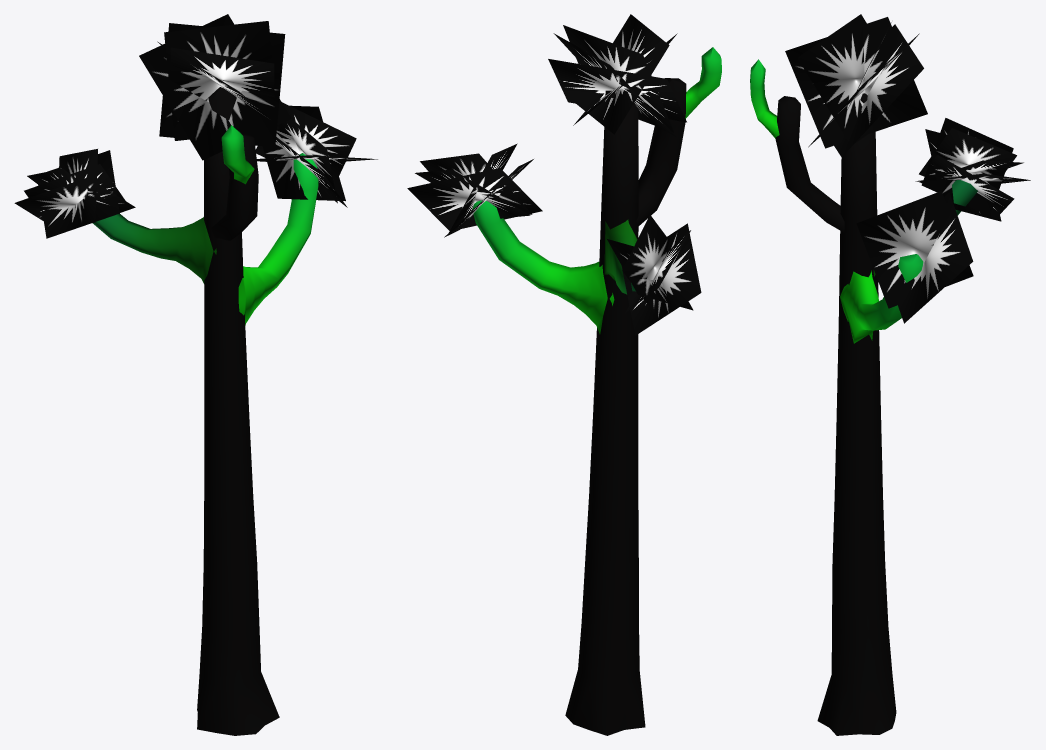
Rendered from SM_JoshuaTree03.fbx.
3 views of the same model, side by side, from view 1: azimuth 30°, elevation 25°; view 2: azimuth 150°, elevation 25°; view 3: azimuth 270°, elevation 25° (orthographic).
Parts seen in each view (by area): view 1: SM_JoshuaTree03, t_joshua_003; view 2: SM_JoshuaTree03, t_joshua_003; view 3: SM_JoshuaTree03, t_joshua_003.
Part boxes in pixels (left/top/right/bottom): SM_JoshuaTree03: left=92, top=87, right=318, bottom=735; t_joshua_003: left=14, top=14, right=377, bottom=238; SM_JoshuaTree03: left=472, top=47, right=721, bottom=735; t_joshua_003: left=407, top=14, right=701, bottom=335; SM_JoshuaTree03: left=750, top=59, right=977, bottom=735; t_joshua_003: left=785, top=14, right=1030, bottom=323.
Size of the model in its own units: 296 by 612 by 230.
